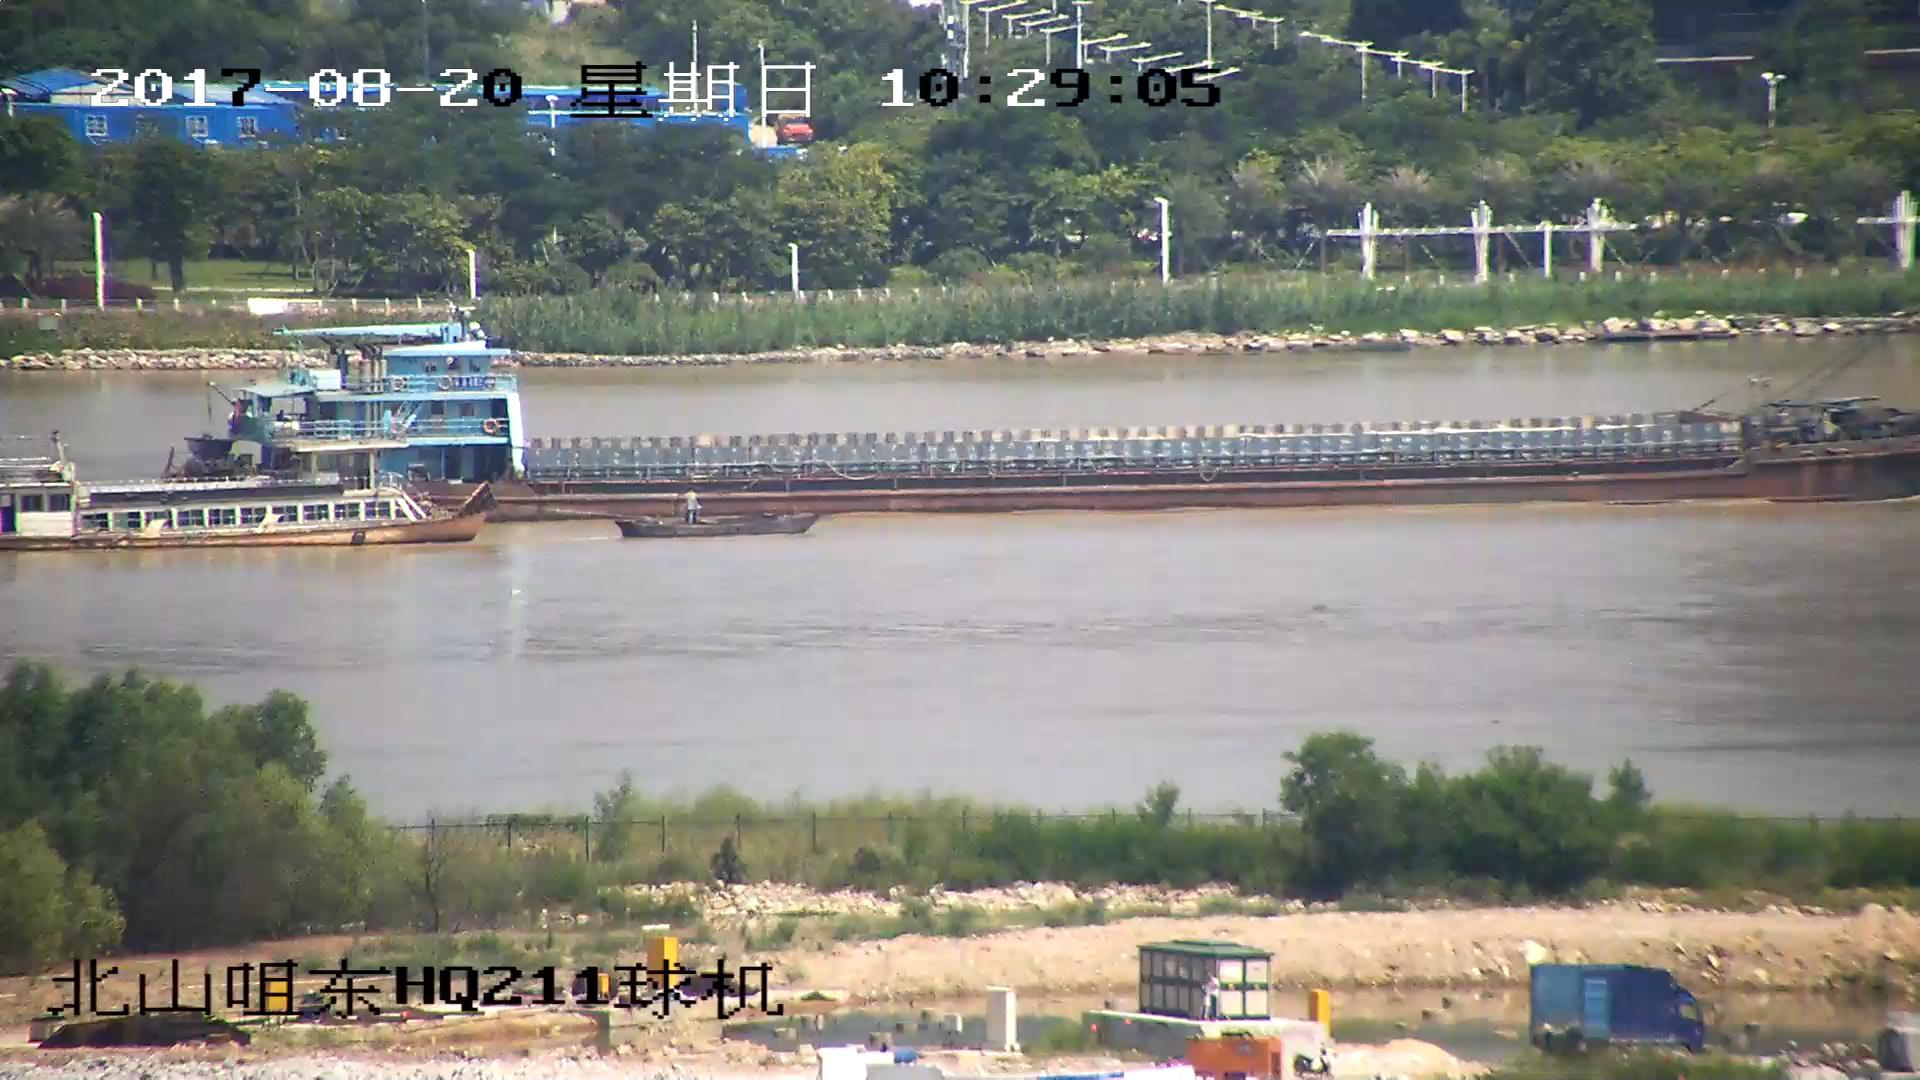Ship: (162, 328, 1920, 512), (3, 439, 500, 547), (615, 496, 824, 535)
